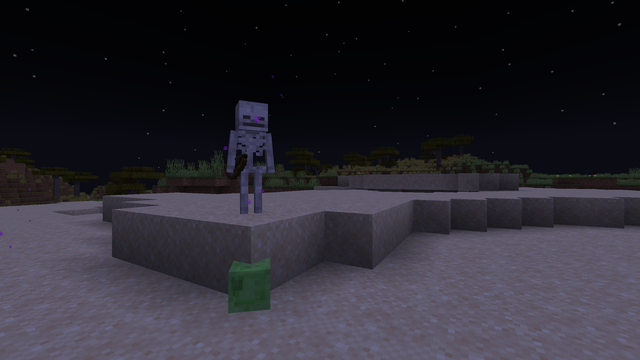slimes: (221, 257, 278, 315)
squelettes: (226, 99, 273, 216)
